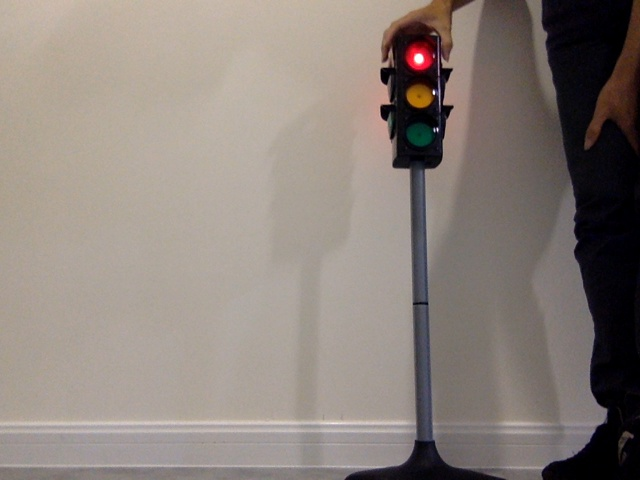red: (399, 46, 439, 151)
